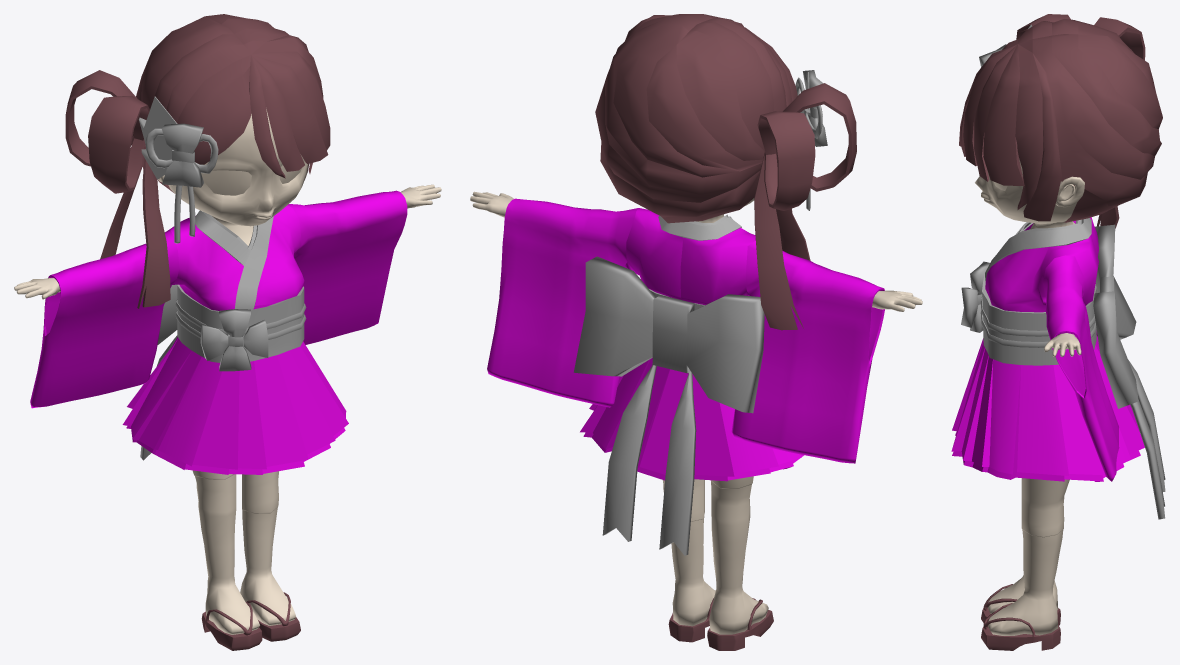
File: pleyer.fbx
The picture shows the model from 3 angles, left to right: view 1: azimuth 30°, elevation 25°; view 2: azimuth 150°, elevation 25°; view 3: azimuth 270°, elevation 25°; orthographic projection. The views are drawn at different scales.
Parts seen in each view (by area): view 1: polySurface59; view 2: polySurface59; view 3: polySurface59.
Part boxes in pixels (x1,y1,x2,y2): polySurface59: [14, 14, 441, 650]; polySurface59: [470, 14, 922, 650]; polySurface59: [951, 14, 1165, 650].
Bounding box in the file's own units: 676 × 900 × 289.
